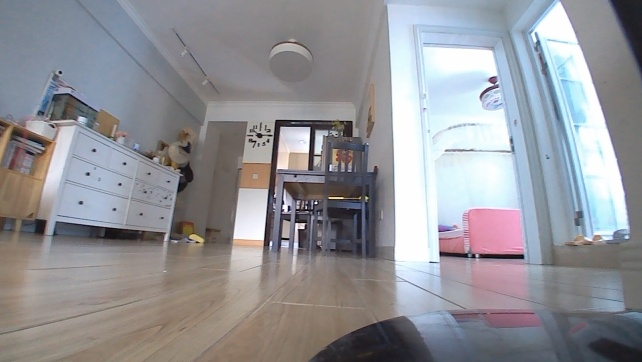bed1: (439, 204, 525, 260)
dining_table: (266, 136, 380, 260)
slipper: (565, 234, 593, 247)
